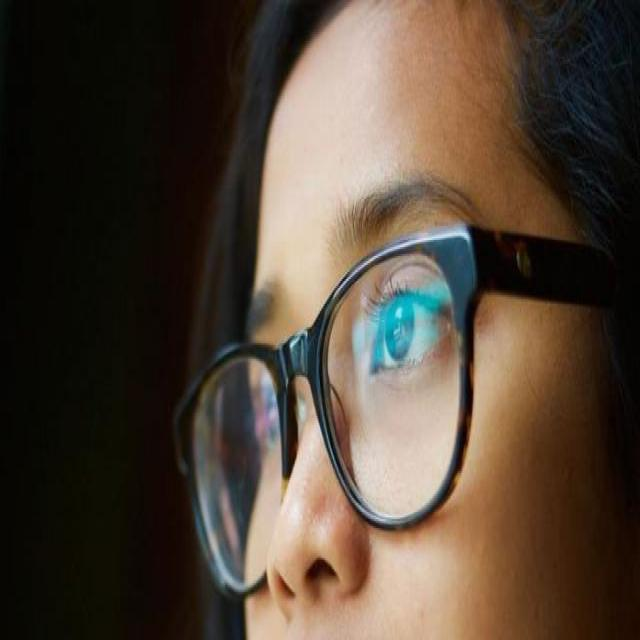glasses: (172, 222, 618, 604)
